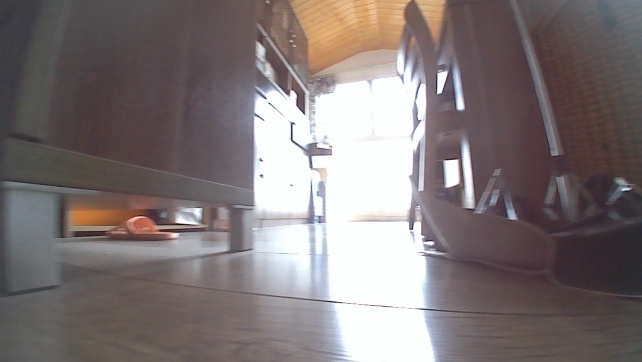slipper: (104, 214, 180, 243)
